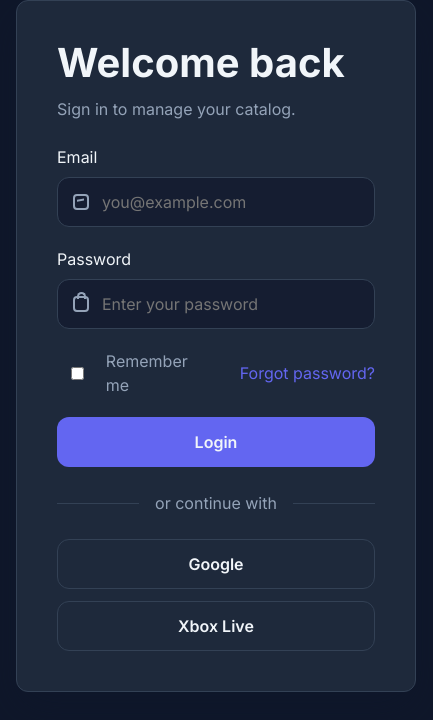
it: LoginPage › shows validation errors
Click the button "Login": (216, 442) left=57, top=417, right=375, bottom=467
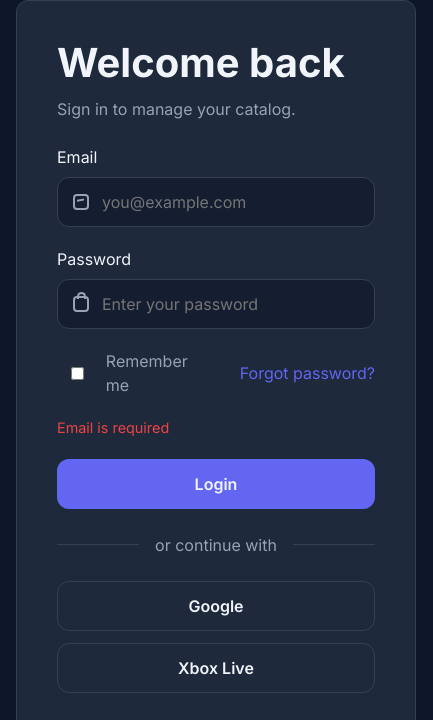
Result: the text "Email is required" is shown at left=57, top=419, right=169, bottom=436
